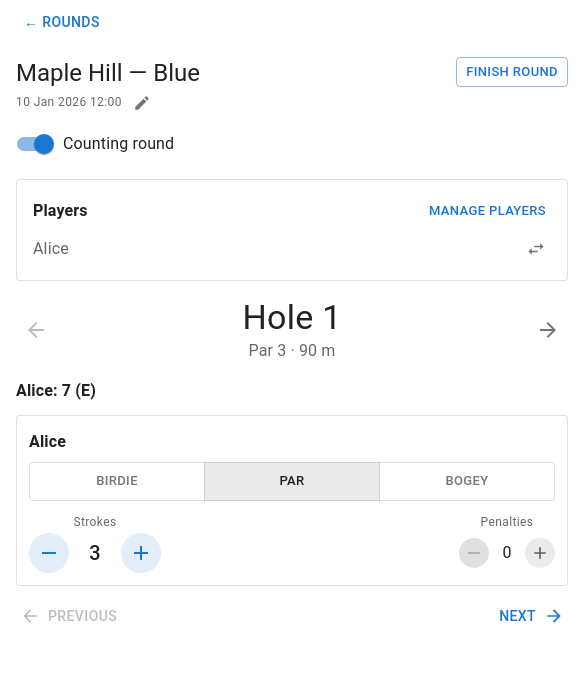
Scenario: RoundPage › shows an inline error banner when saving a score fails
Check: the heading "Hole 1" is shown, box x1=242 y1=297 x2=342 y2=339
Click the button named "increase strokes" at coordinates (141, 553), box x1=121 y1=533 x2=161 y2=573
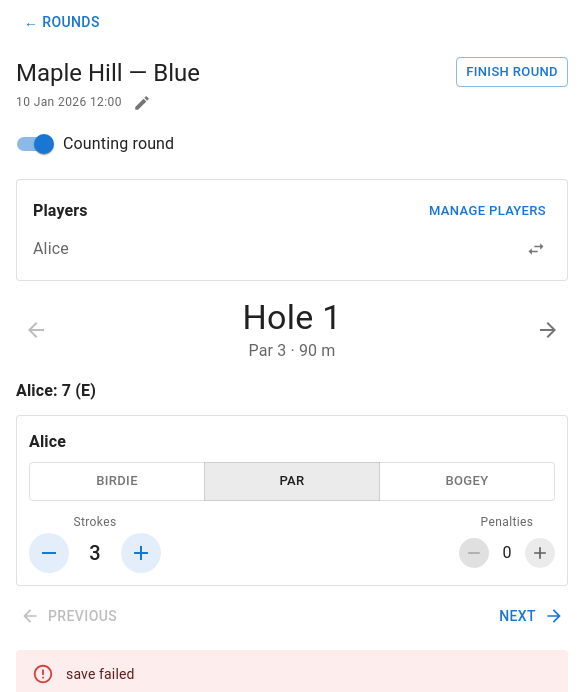
Check: the text "save failed" is shown, box x1=66 y1=666 x2=135 y2=682
